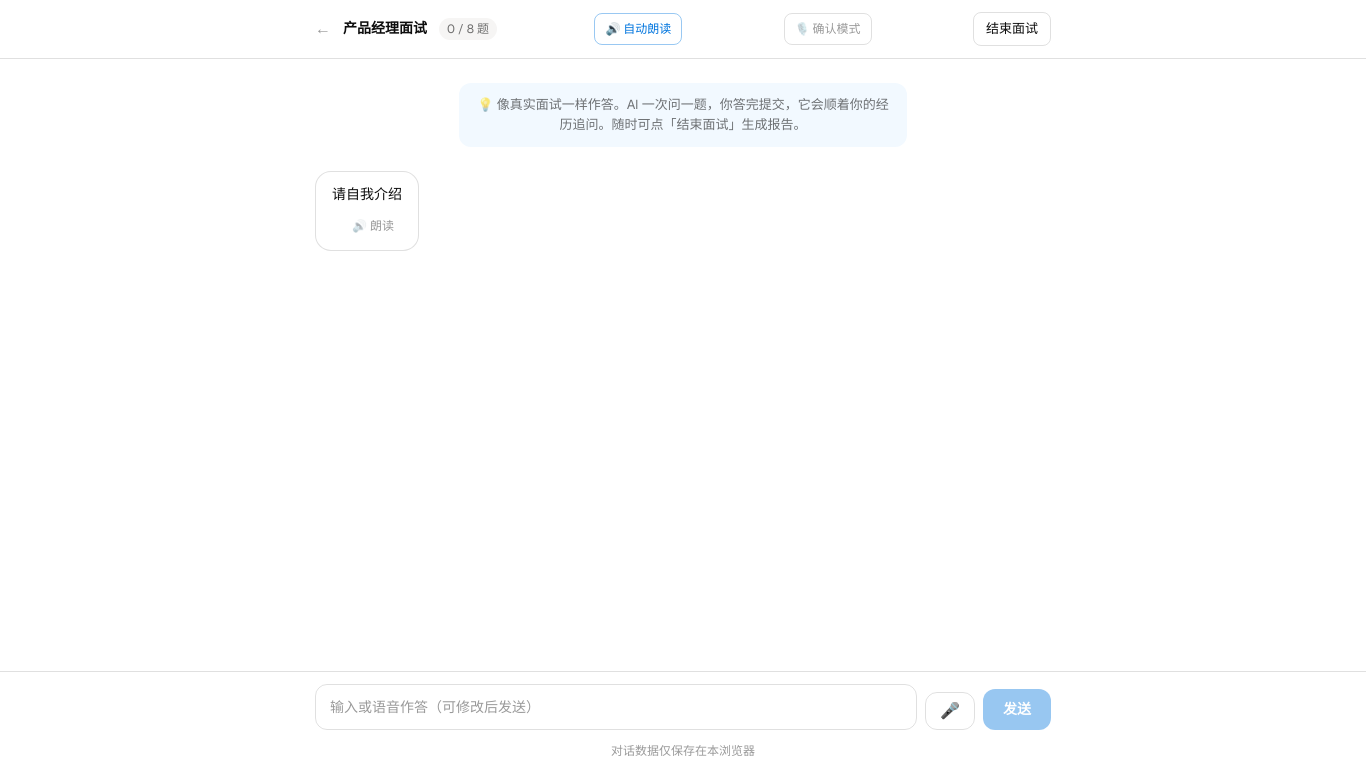
Test: InterviewPage › 语音作答：录音 → 停止 → 转写填入输入框 → 可修改后发送
Check: the text "请自我介绍" is shown, box [332, 184, 402, 202]
Click the button with test id "mic-button": [950, 711] box [925, 692, 975, 730]
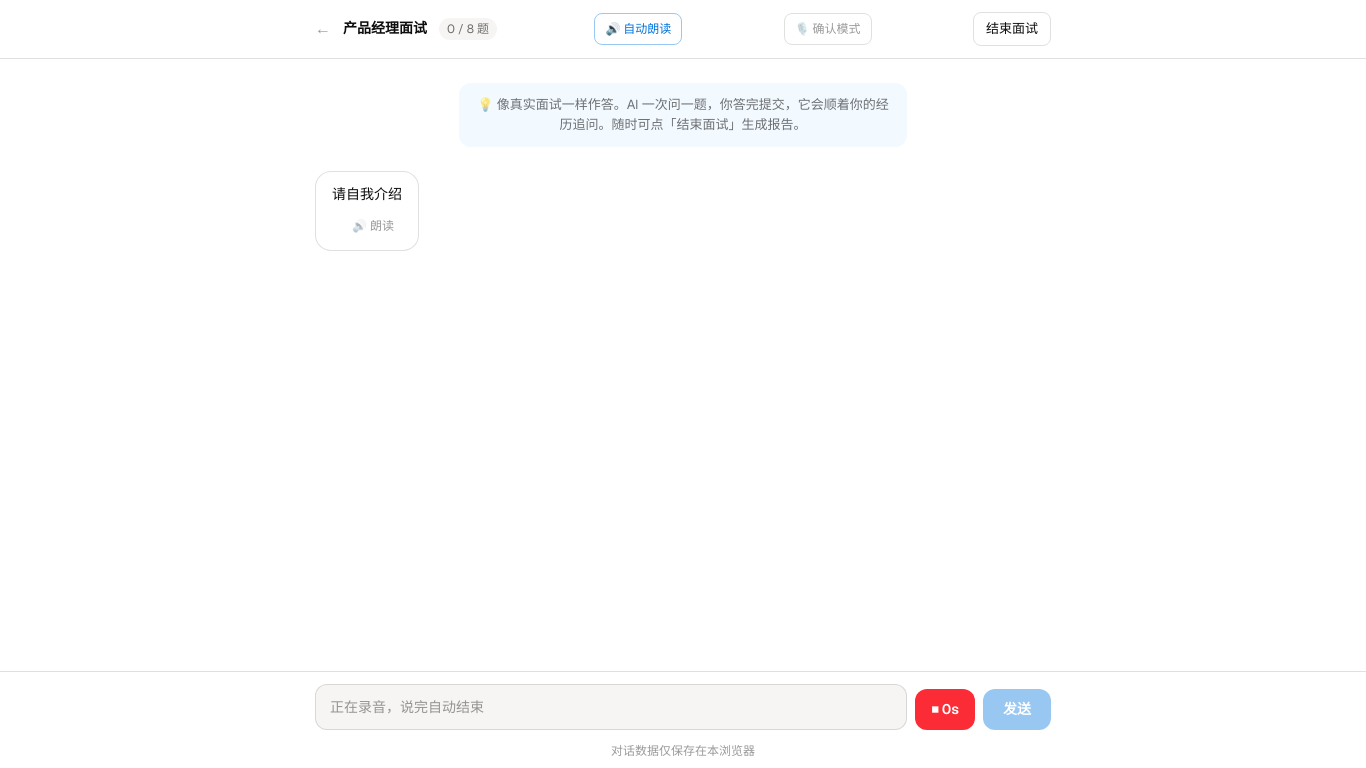
Check: the button with test id "send-button" is disabled, box [983, 689, 1051, 730]
Check: the button with test id "mic-stop-button" is shown
停止 → 调 /api/asr → 文本填入输入框（用户确认前未发送）
Click the button with test id "mic-stop-button": [945, 710] box [915, 689, 975, 730]
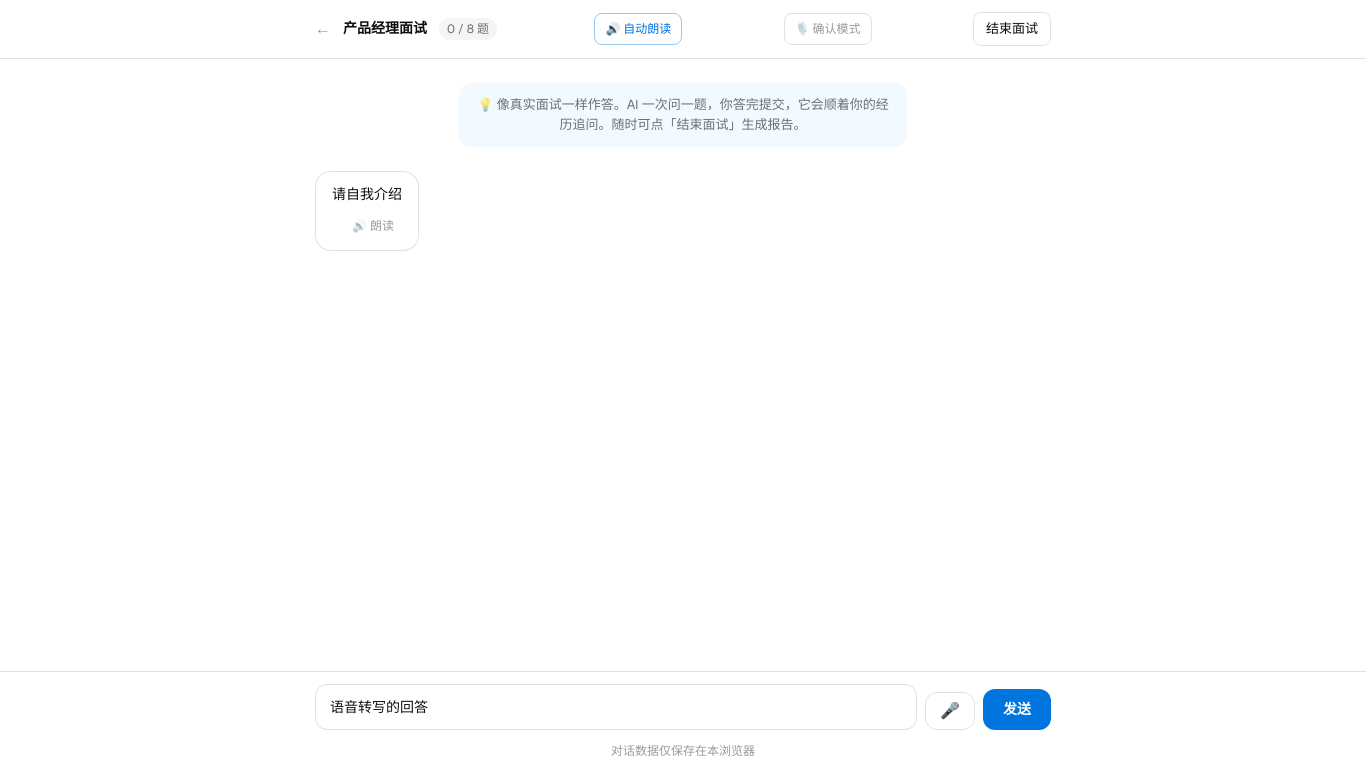
Check: the text box with test id "answer-input" holds "语音转写的回答"
用户修改后点发送
Clear the text box with test id "answer-input": [616, 707] box [315, 684, 917, 730]
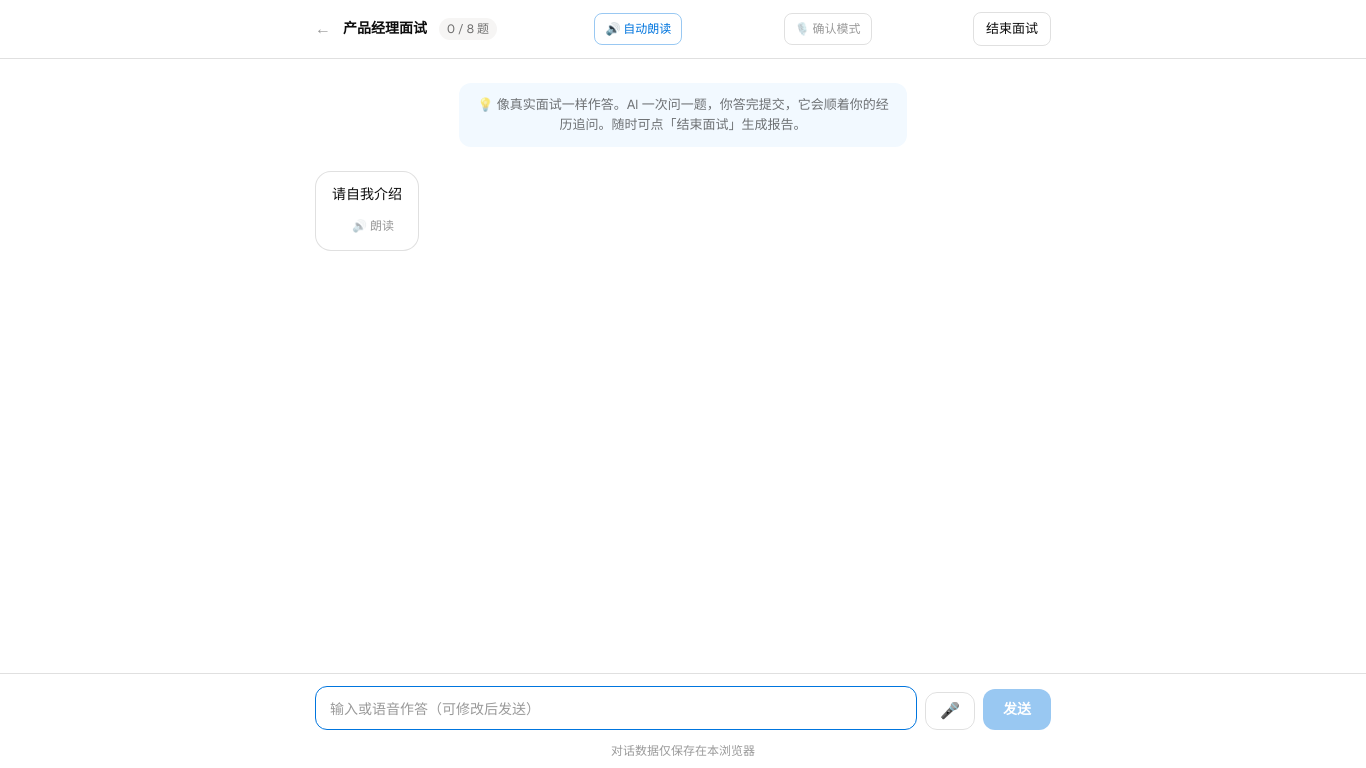
In the text box with test id "answer-input": [616, 708] box [315, 686, 917, 730], type "我叫张三，做过推荐系统"
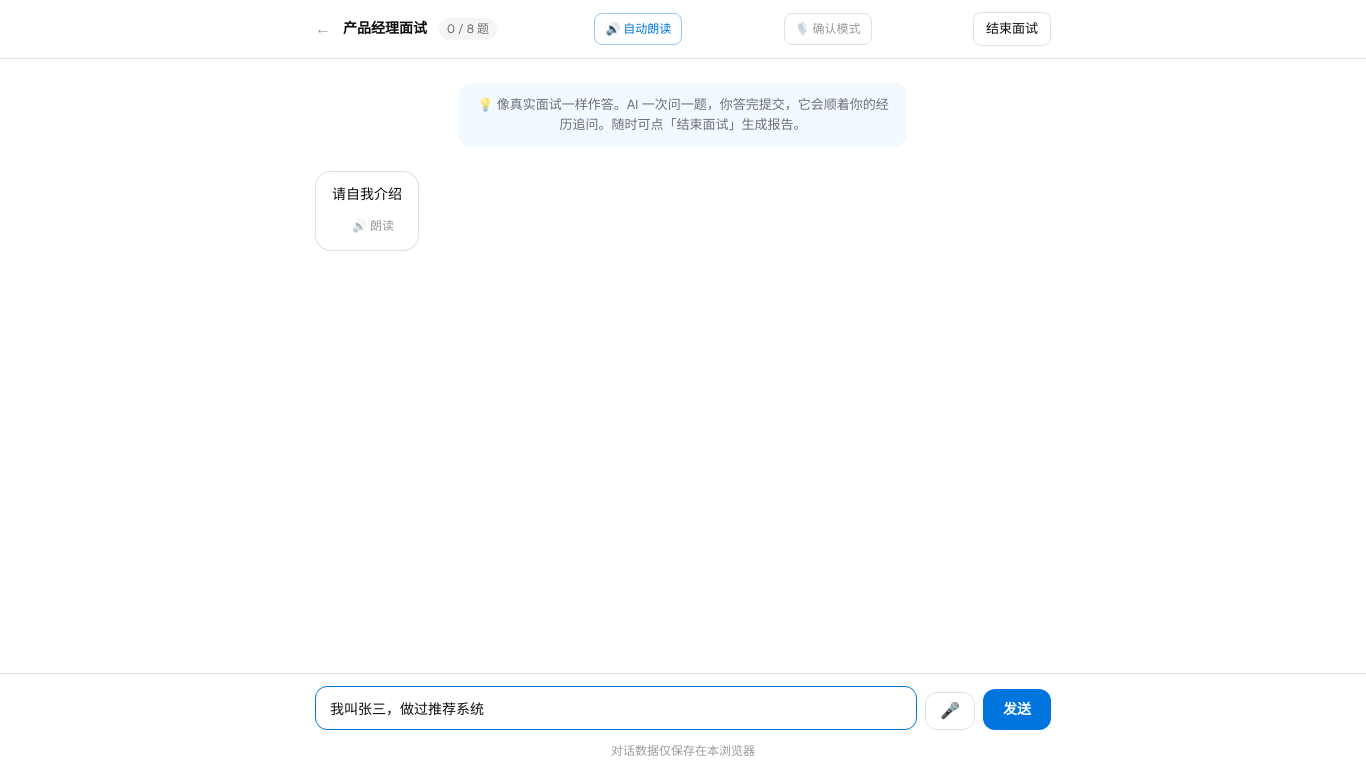
Click the button with test id "send-button": [1017, 710] box [983, 689, 1051, 730]
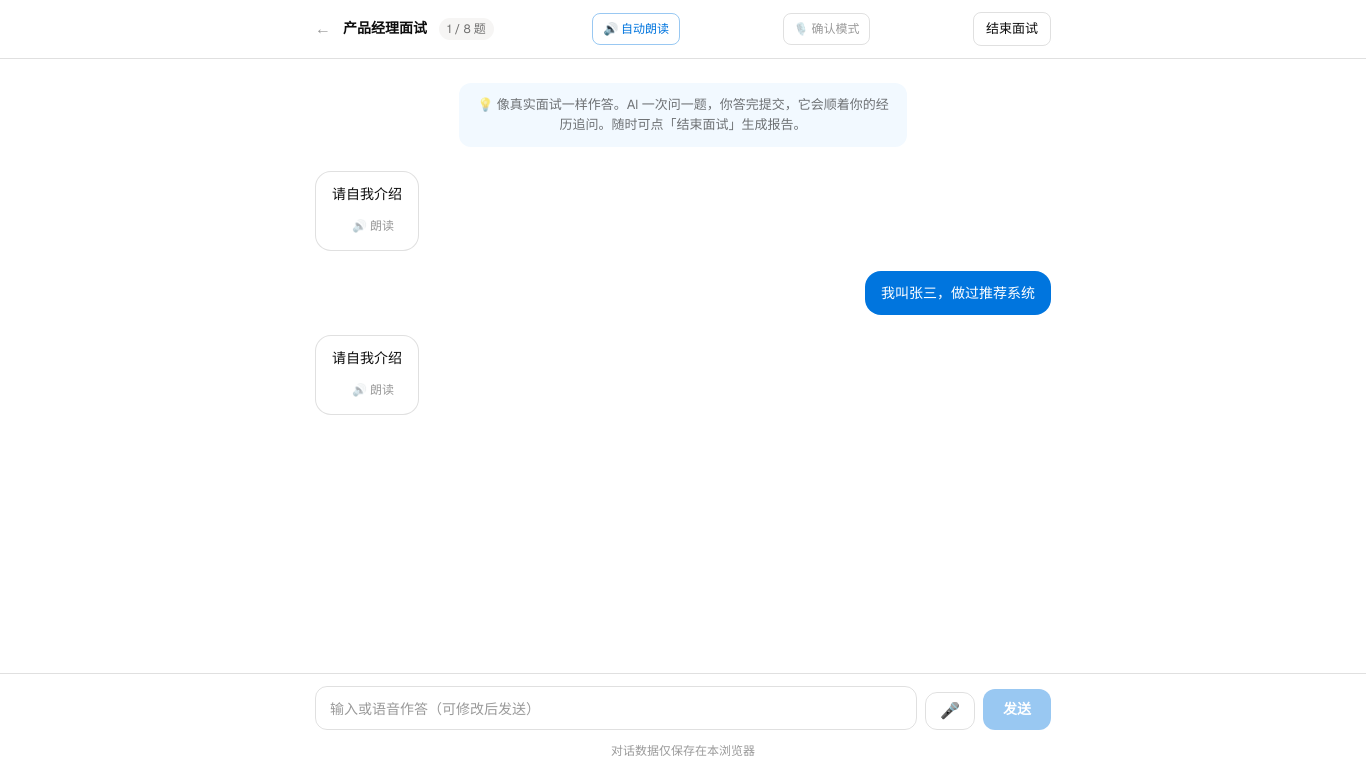
Check: the text "我叫张三，做过推荐系统" is shown, box [865, 270, 1051, 314]
